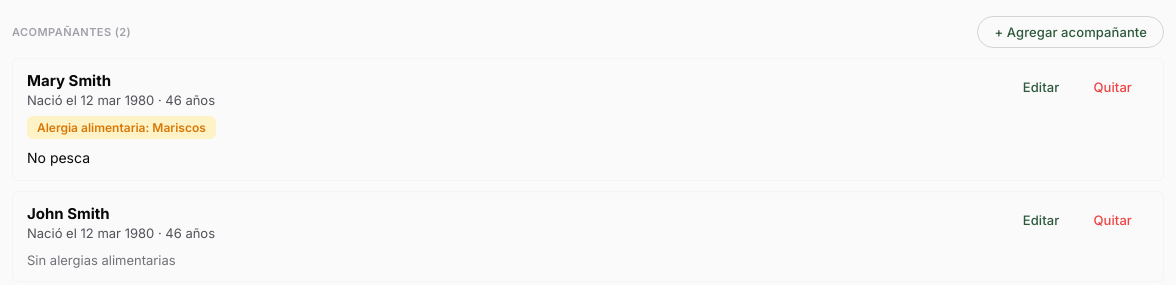
Test: AcompanantesReserva › quitar pide confirmación y manda la lista sin esa persona
What coordinates should you click on to do the following:
click the button "Quitar" in the row of "Mary Smith"
I would click on:
 (1113, 87)
Its box is left=1076, top=71, right=1149, bottom=103.
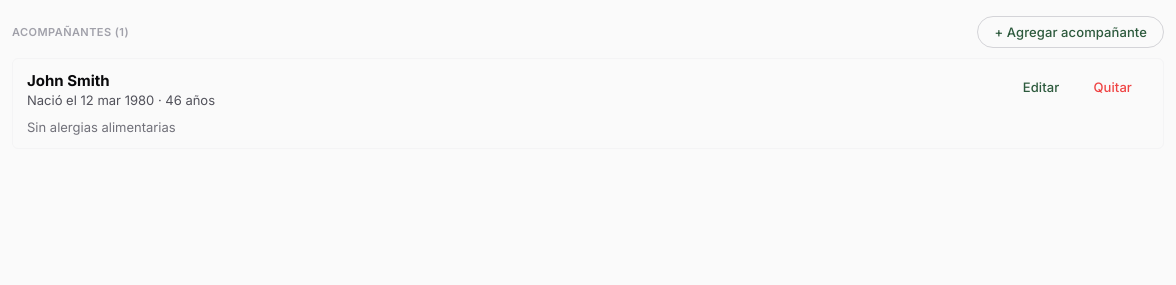
Expected: the text "Mary Smith" is gone
